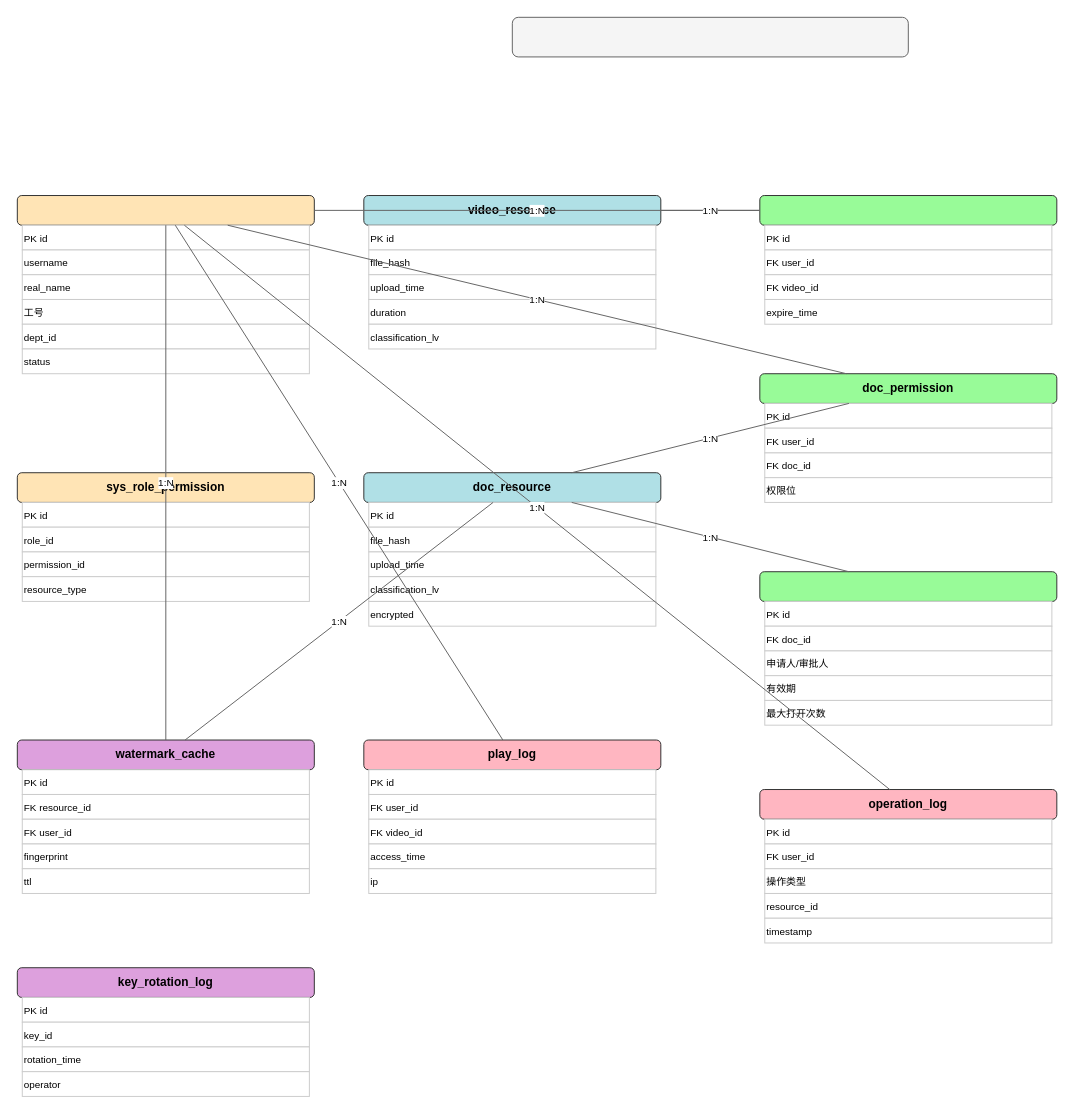
Image size: 1074x1114. Some labels were removed from this diagram. Each missing label, with the centre of its shape:
distribution_approval: point 908,586
sys_user: point 165,210
video_permission: point 908,210
核心数据表 ER 图: point 709,36
